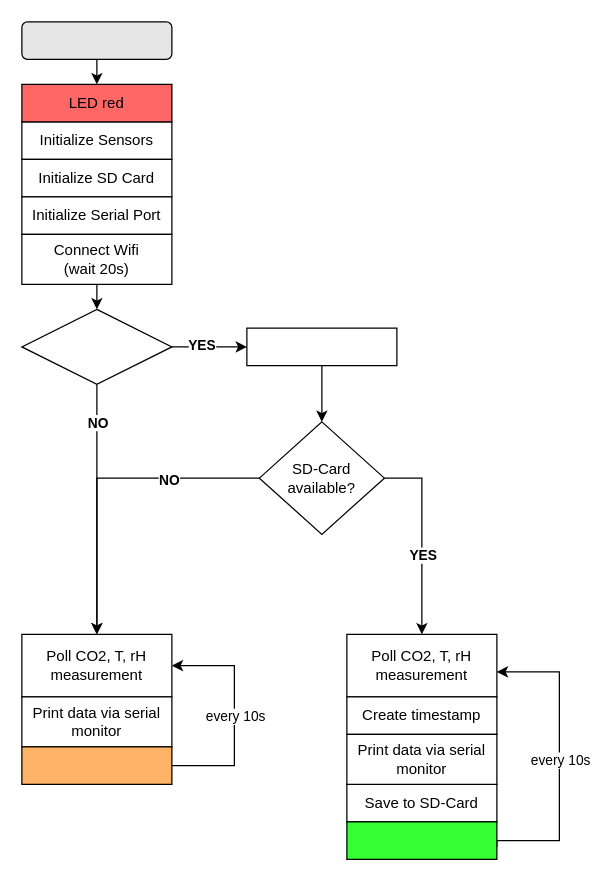
Some shapes in this 611 by 881 pixel diagram are drawn without their labels. The shapes that lost their labels are listed below. From the top down, each one's centre as x and y in pixels, then its label:
At point (96, 40): "START".
At point (96, 346): "WiFi available?".
At point (321, 346): "Sync Time".
At point (96, 765): "LED blink orange".
At point (421, 840): "LED blink green".
